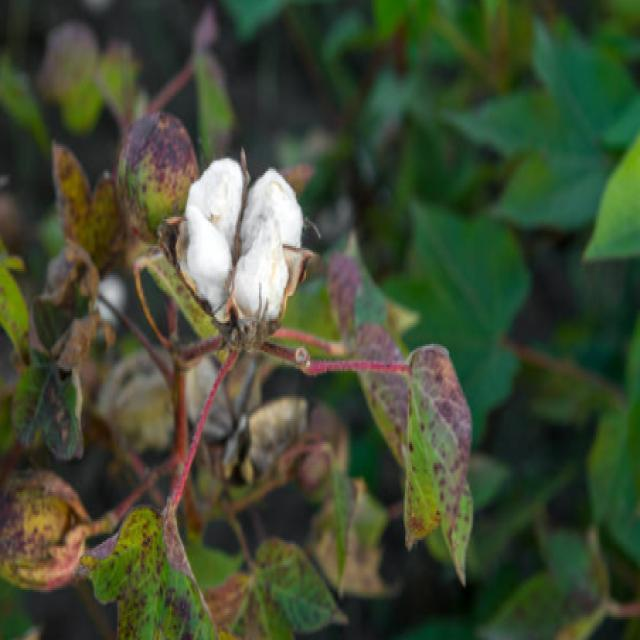Early Boll: (0, 461, 96, 600), (122, 104, 200, 227)
Matured Cotton Boll: (173, 158, 313, 325)
